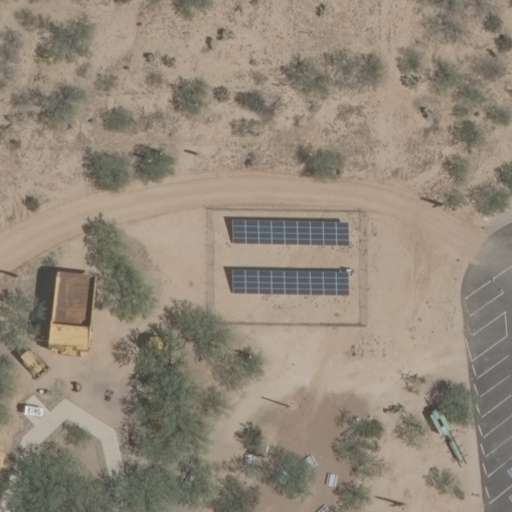DT: (276, 398, 297, 416)
